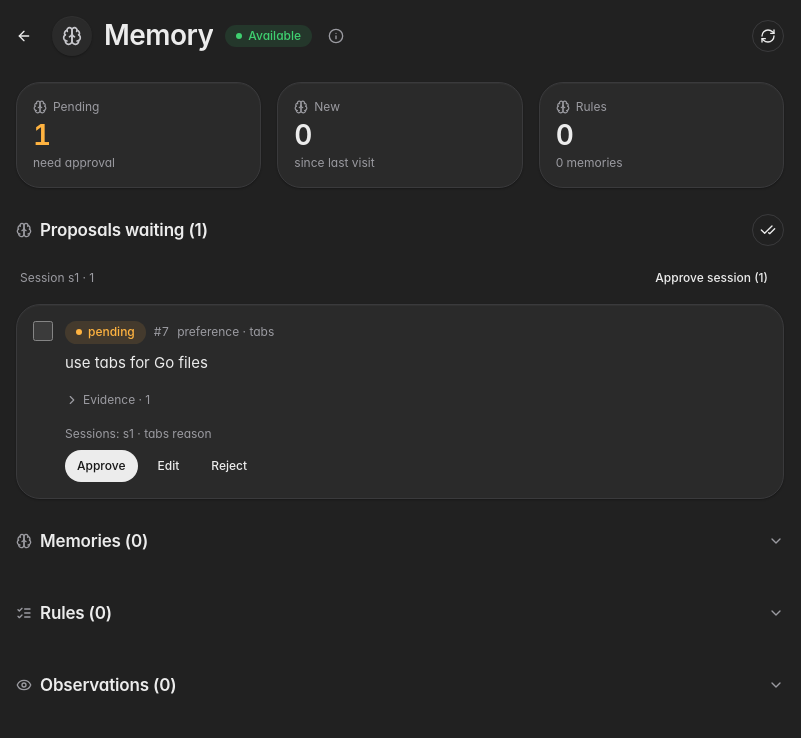
Scenario: MemoryPage queue › batch approves a session
The image size is (801, 738).
Check: the list item with test id "memory-queue-7" is shown, box [33, 321, 274, 482]
Click the button "Approve session (1)". click: (712, 278)
box: [643, 262, 780, 294]
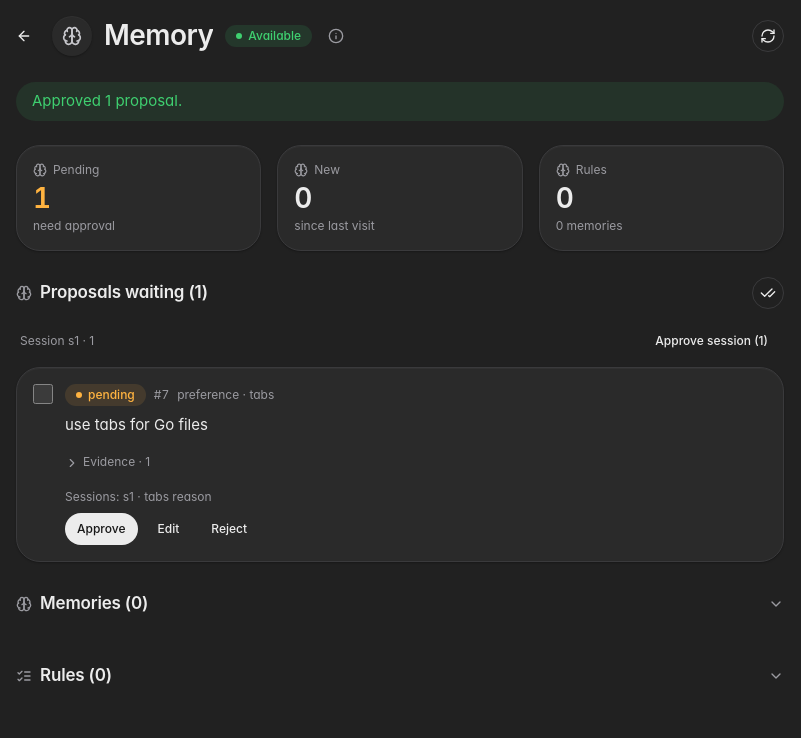
Check: the text "Approved 1 proposal." is shown, box [16, 82, 784, 120]
